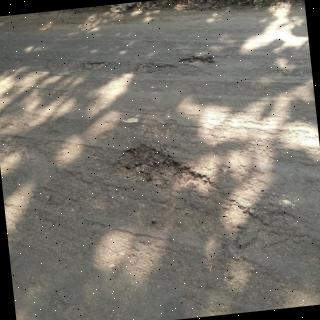pothole: (117, 147, 211, 192), (182, 55, 214, 63)
